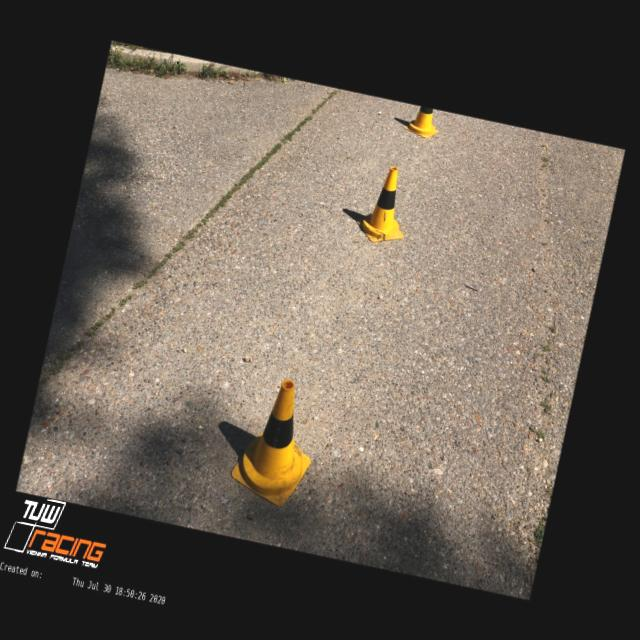yellow_cone: (226, 371, 326, 512), (352, 162, 417, 248), (402, 103, 442, 140)
